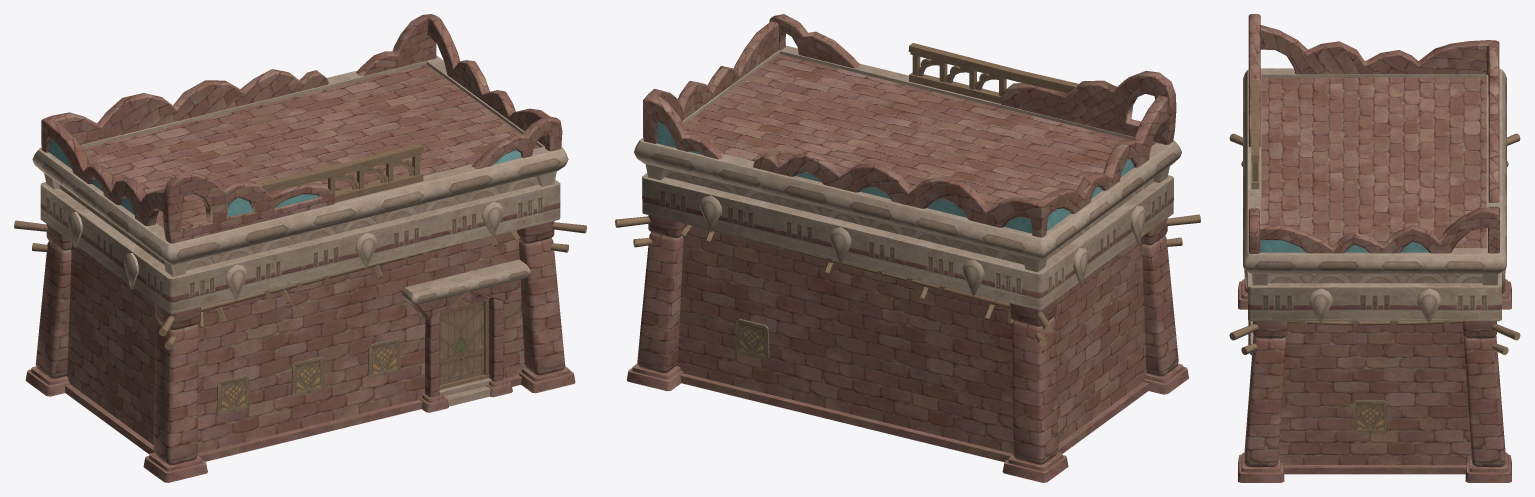
File: Homeworld_Exterior_Xm_Build_Arvillage_02_Lod0.fbx
The picture shows the model from 3 angles, left to right: view 1: azimuth 30°, elevation 25°; view 2: azimuth 150°, elevation 25°; view 3: azimuth 270°, elevation 25°; orthographic projection. The views are drawn at different scales.
Parts seen in each view (by area): view 1: Area_Xm_Build_ARC_House_B_01_Lod0; view 2: Area_Xm_Build_ARC_House_B_01_Lod0; view 3: Area_Xm_Build_ARC_House_B_01_Lod0.
Part boxes in pixels (box(x1,y1,x2,y2)): Area_Xm_Build_ARC_House_B_01_Lod0: box(14, 14, 586, 482); Area_Xm_Build_ARC_House_B_01_Lod0: box(615, 14, 1200, 482); Area_Xm_Build_ARC_House_B_01_Lod0: box(1229, 14, 1520, 482).
Bounding box in the file's own units: 14.96 × 9.91 × 9.12.
